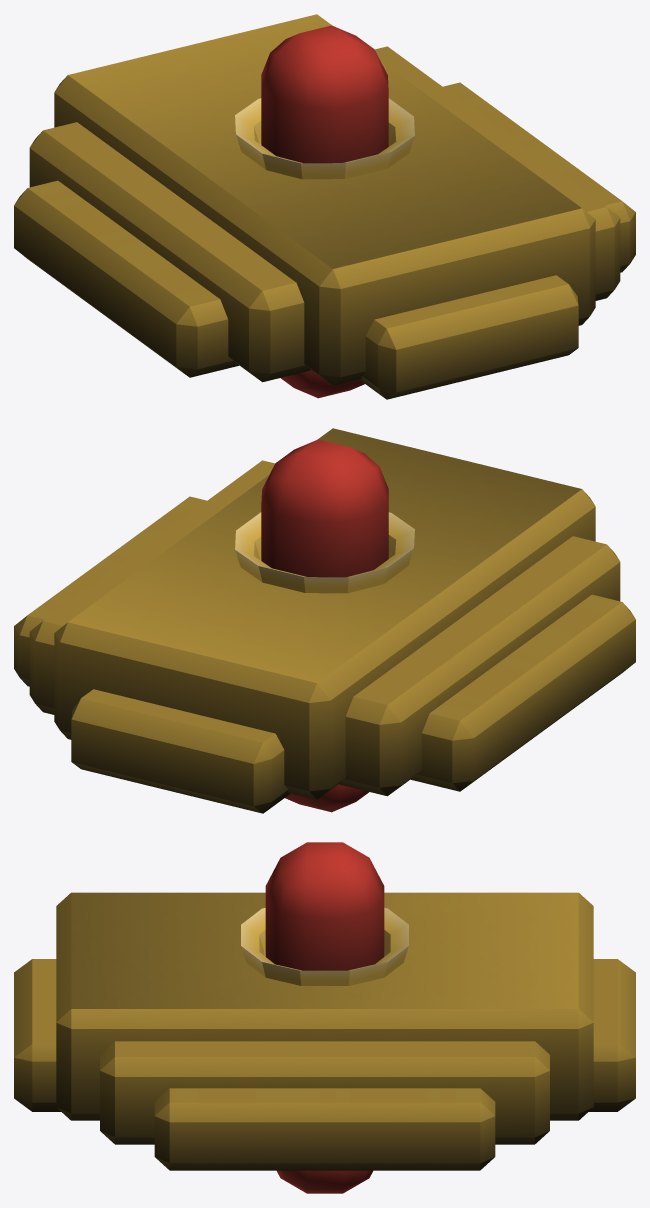
Rendered from M_Button.fbx.
The picture shows the model from 3 angles, top to bottom: view 1: azimuth 30°, elevation 25°; view 2: azimuth 150°, elevation 25°; view 3: azimuth 270°, elevation 25°; orthographic projection. The views are drawn at different scales.
Parts seen in each view (by area): view 1: M_Button_Base, M_Button; view 2: M_Button_Base, M_Button; view 3: M_Button_Base, M_Button.
Part boxes in pixels (left/top/right/bottom): M_Button_Base: left=14, top=14, right=635, bottom=399; M_Button: left=261, top=25, right=388, bottom=398; M_Button_Base: left=14, top=428, right=635, bottom=813; M_Button: left=261, top=439, right=388, bottom=812; M_Button_Base: left=14, top=892, right=635, bottom=1170; M_Button: left=265, top=842, right=384, bottom=1193.
Bounding box in the file's own units: 1.15 × 0.8429 × 1.41.
Materials: 1 (1 with a texture image).
